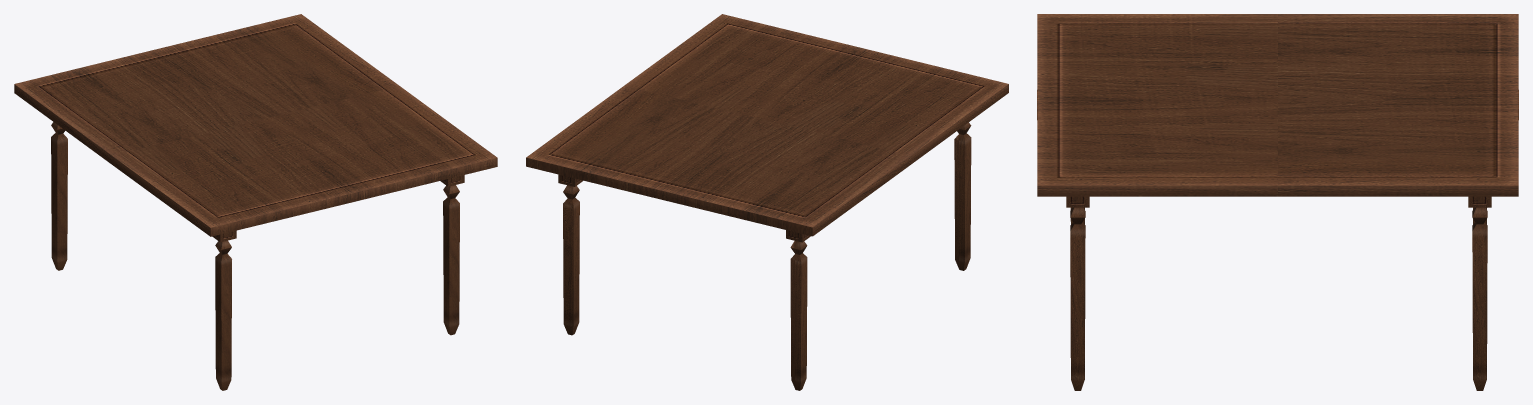
File: diningtable.fbx
3 views of the same model, side by side, from view 1: azimuth 30°, elevation 25°; view 2: azimuth 150°, elevation 25°; view 3: azimuth 270°, elevation 25° (orthographic). The views are drawn at different scales.
Visible parts, largest first — view 1: diningtable; view 2: diningtable; view 3: diningtable.
Part boxes in pixels (box(x1,y1,x2,y2)): diningtable: box(14, 14, 497, 390); diningtable: box(526, 14, 1008, 390); diningtable: box(1037, 14, 1518, 390).
Size of the model in its own units: 47.07 by 28.33 by 55.78.
